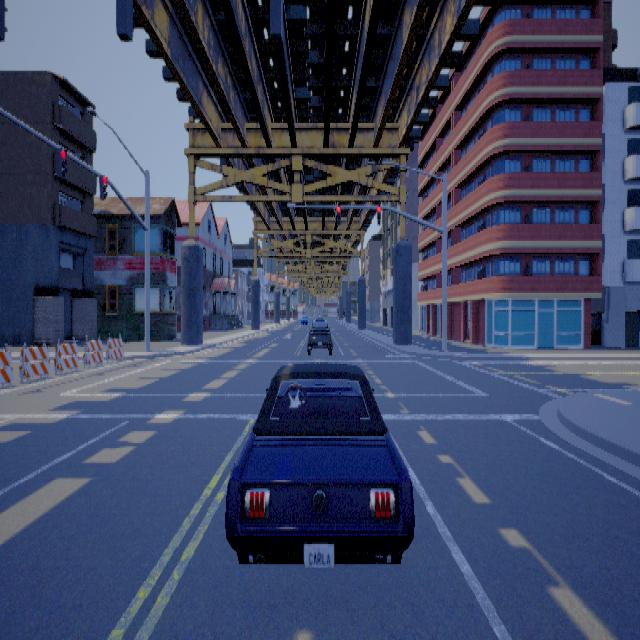red_light: (56, 146, 67, 178), (98, 173, 107, 199), (376, 204, 380, 224), (336, 204, 340, 224)
vehicle: (224, 360, 414, 566), (306, 315, 332, 354)
